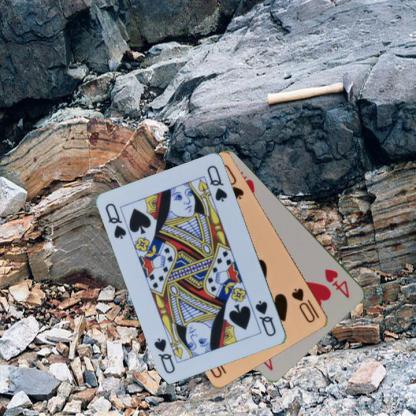10s: (289, 285, 321, 325)
4h: (322, 266, 352, 300)
Qs: (252, 298, 278, 338), (103, 200, 128, 241)
